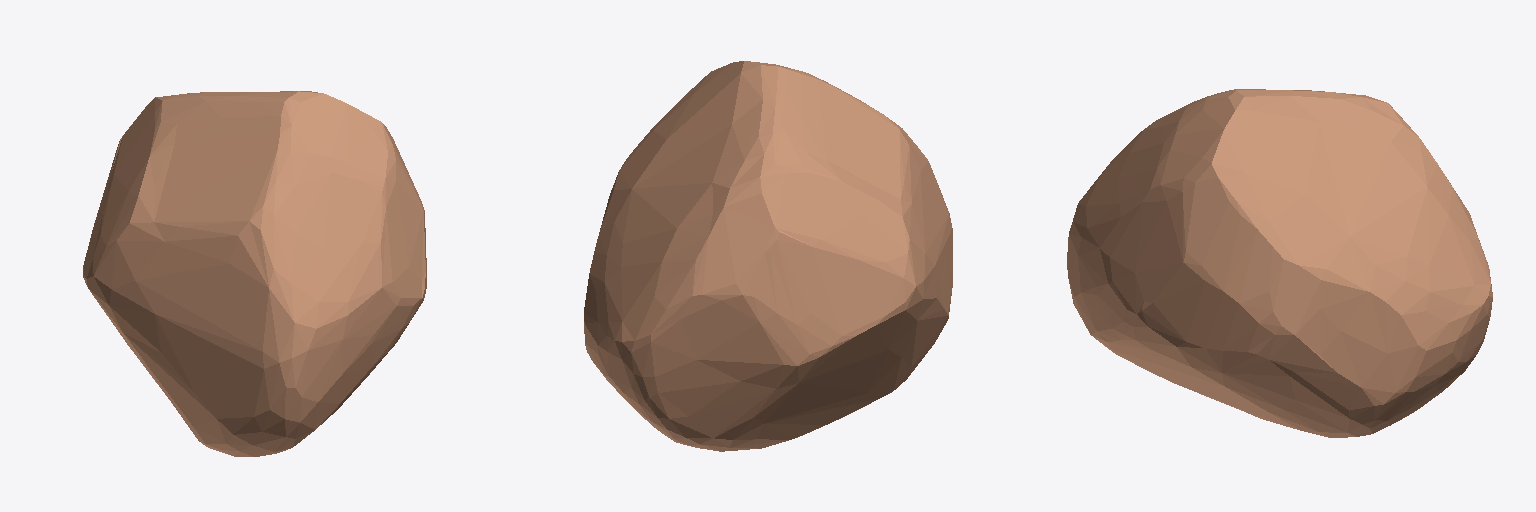
Rendered from subWoofRock2.obj.
3 renders of one model, left to right at view 1: azimuth 30°, elevation 25°; view 2: azimuth 150°, elevation 25°; view 3: azimuth 270°, elevation 25°, orthographic.
Parts seen in each view (by area): view 1: Cube_Cube.003; view 2: Cube_Cube.003; view 3: Cube_Cube.003.
Part boxes in pixels (bbox=[...]): Cube_Cube.003: bbox=[83, 91, 426, 456]; Cube_Cube.003: bbox=[584, 61, 952, 451]; Cube_Cube.003: bbox=[1067, 89, 1492, 437].
Size of the model in its own units: 1.85 by 1.96 by 2.2.